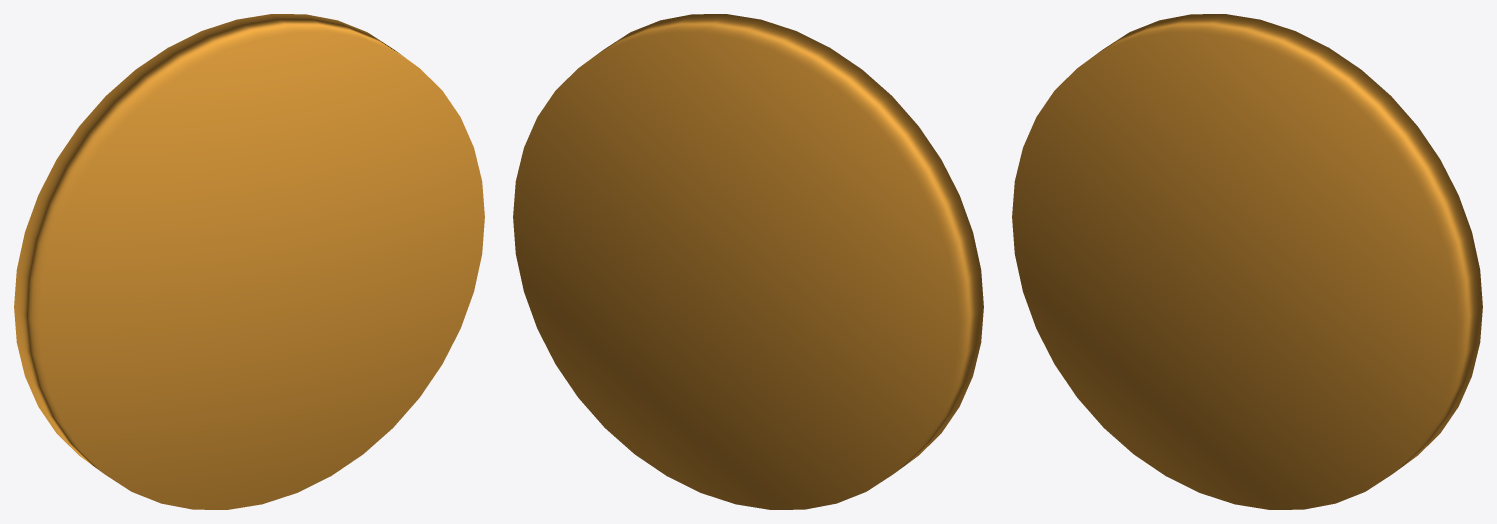
The model's file is SM_Main_Base.obj.
3 views of the same model, side by side, from view 1: azimuth 30°, elevation 25°; view 2: azimuth 150°, elevation 25°; view 3: azimuth 330°, elevation 25° (orthographic).
Size of the model in its own units: 6000 by 6000 by 600.
